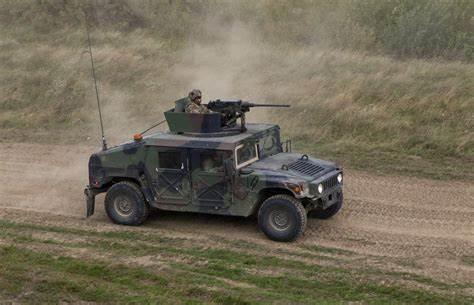armored_car: (82, 90, 346, 242)
